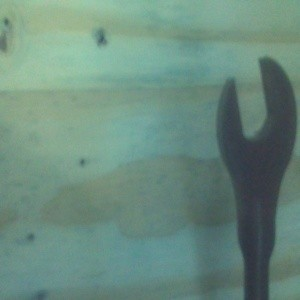spanner: (215, 55, 298, 300)
